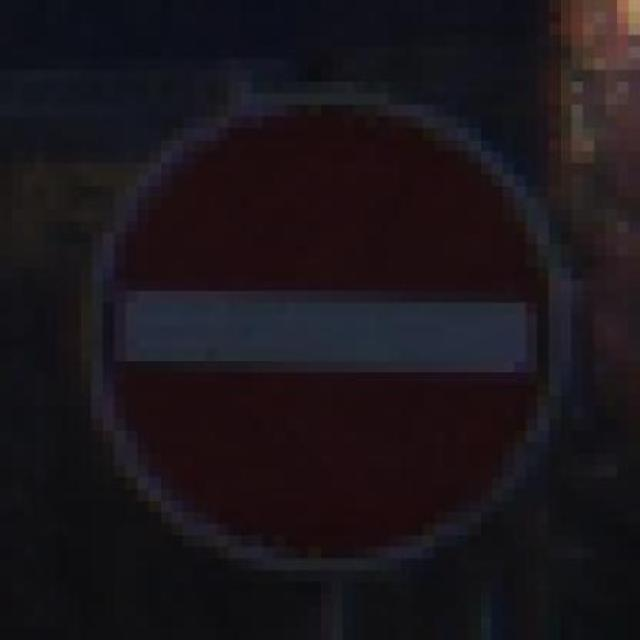B2: (94, 81, 558, 574)
